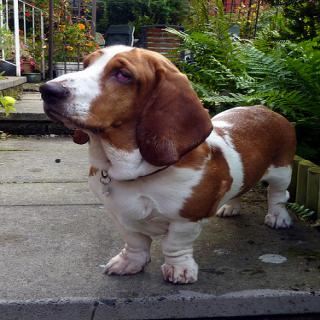dog: (37, 45, 218, 180)
